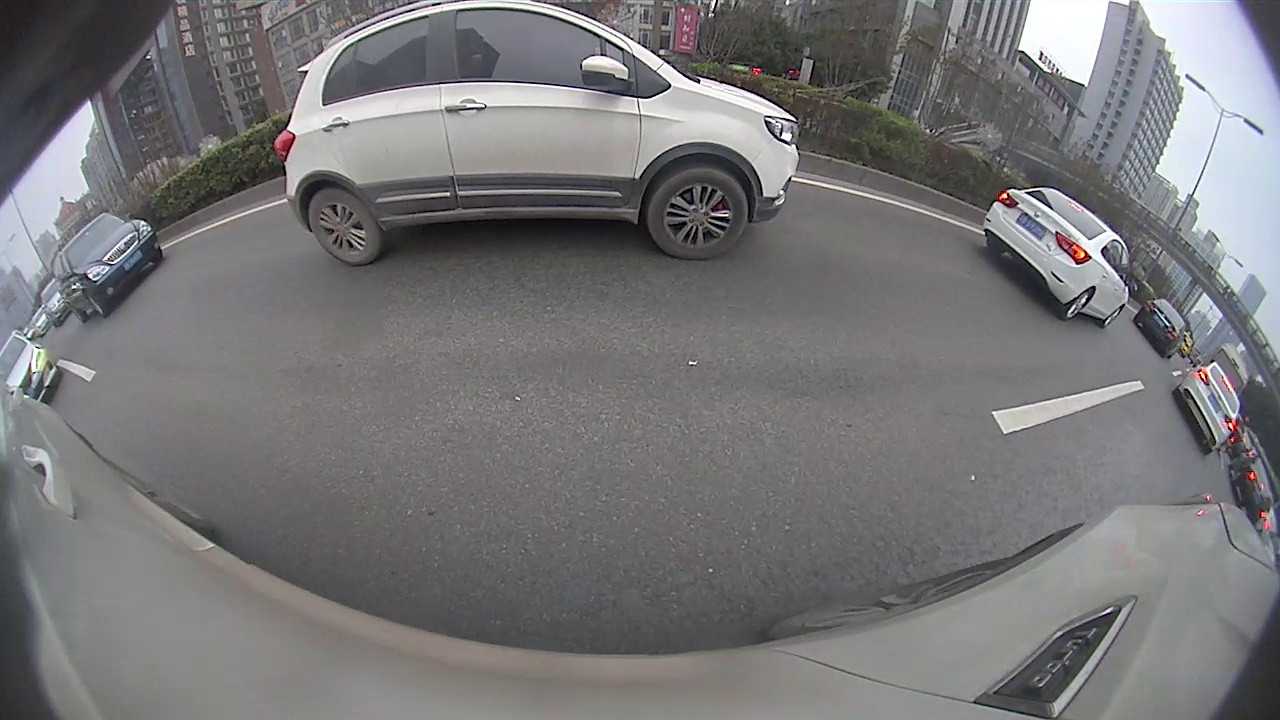car: (272, 4, 802, 269), (982, 185, 1140, 329), (50, 210, 164, 324), (1171, 361, 1240, 457), (1133, 296, 1188, 361)
front: (648, 171, 747, 262)
rear: (307, 187, 385, 263), (1064, 287, 1094, 322)
